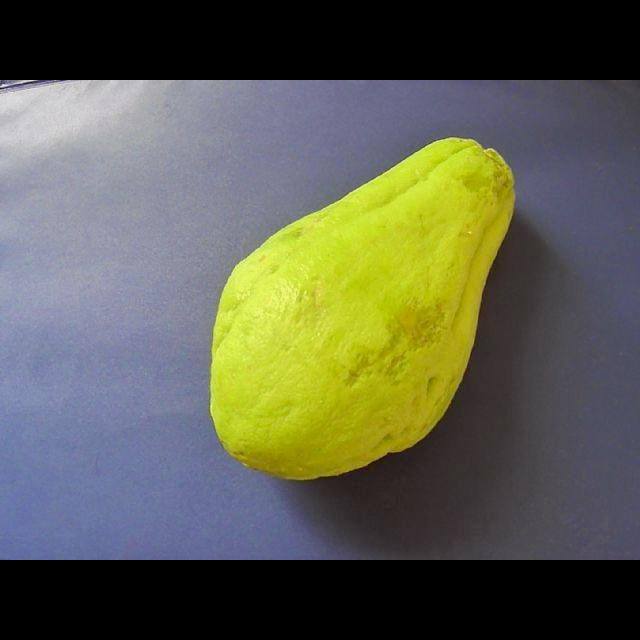chayote: (211, 137, 514, 479)
